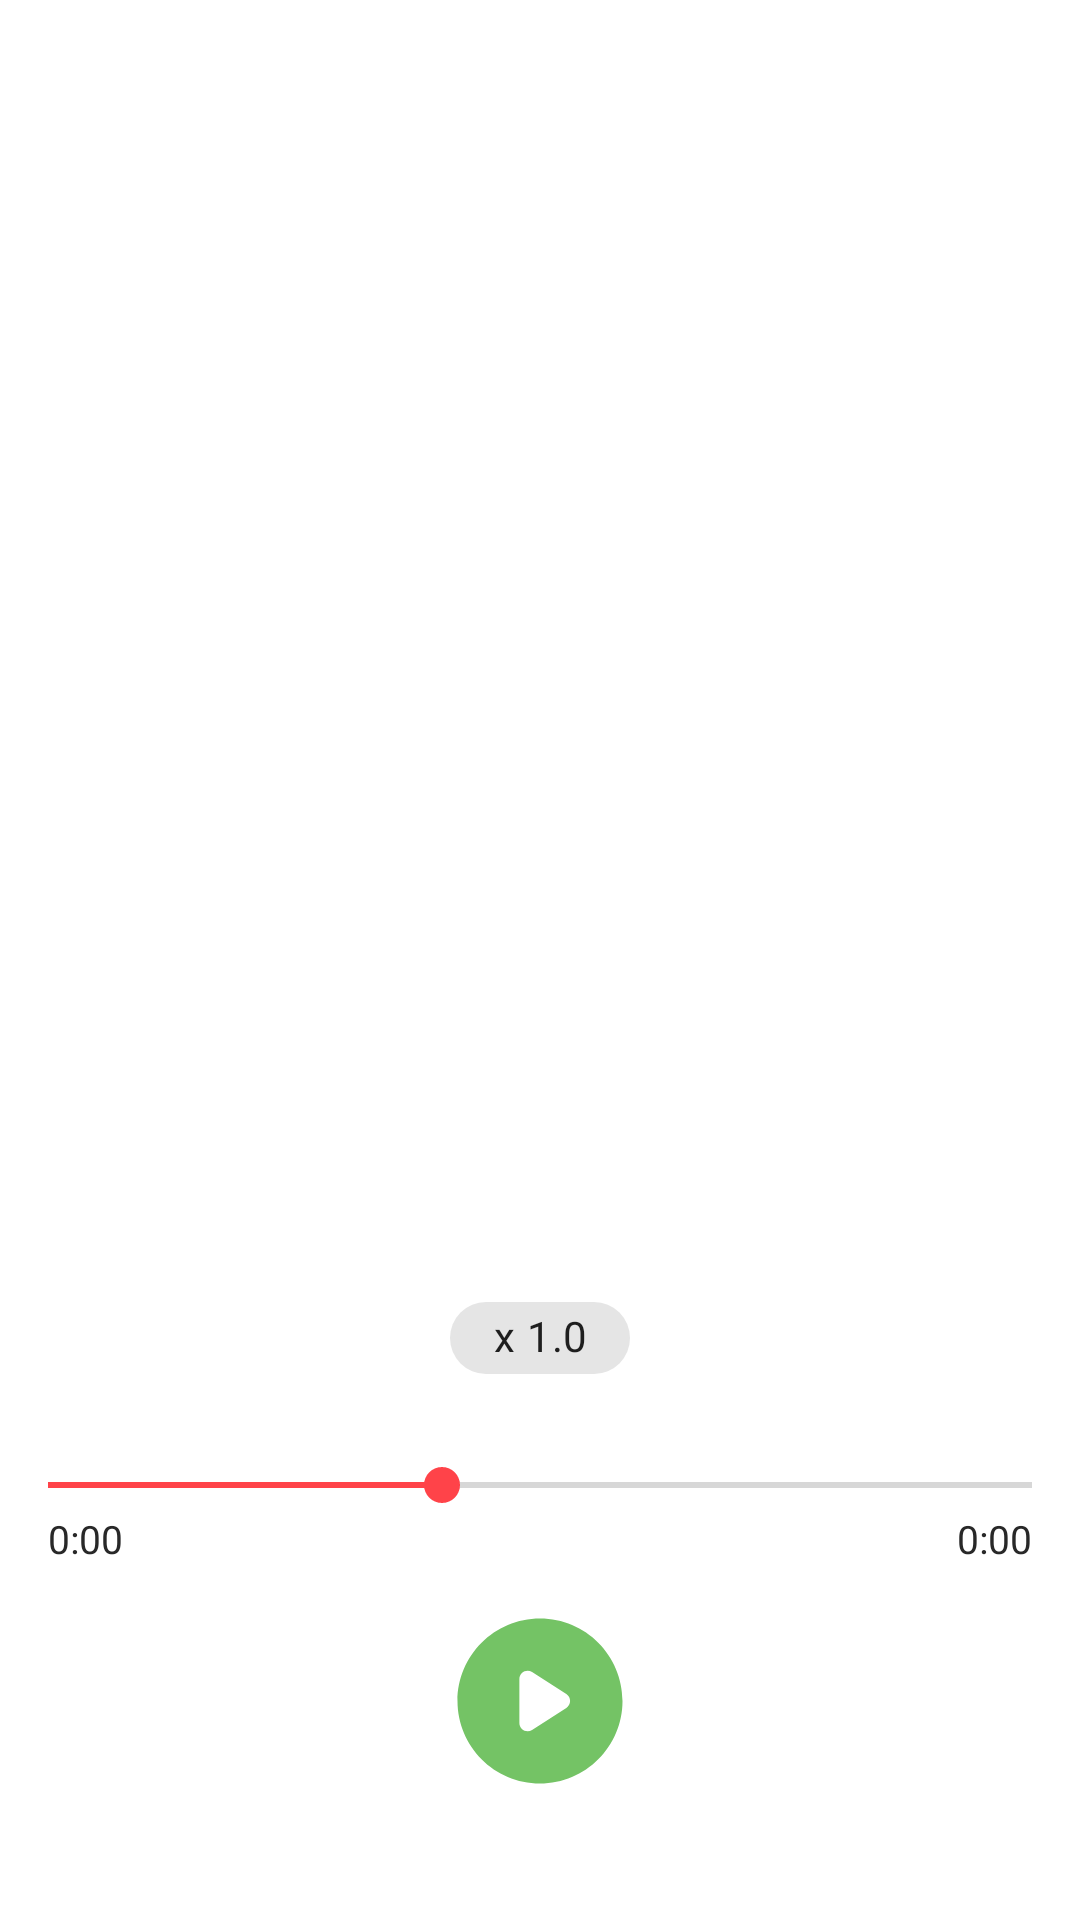

Icons on this 1080*1920 Android screen, each with the point to tap as point (x, y):
play circle: point (540, 1701)
